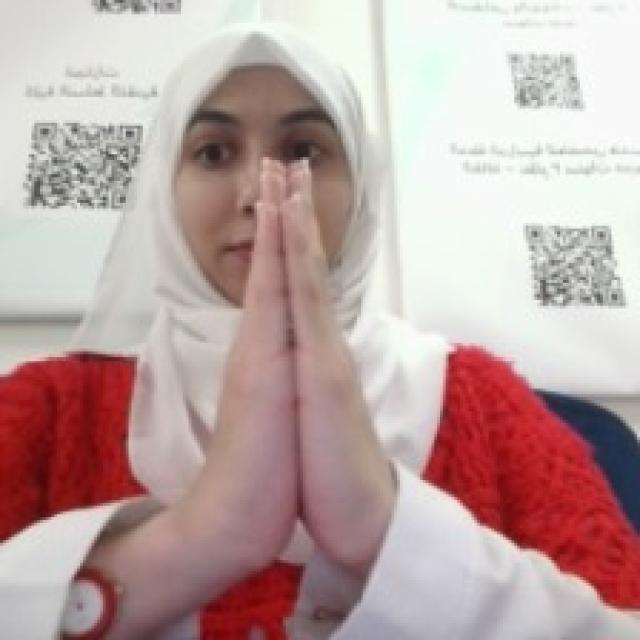sorry: (203, 163, 383, 568)
